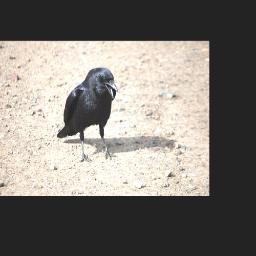Crow: (57, 67, 119, 162)
